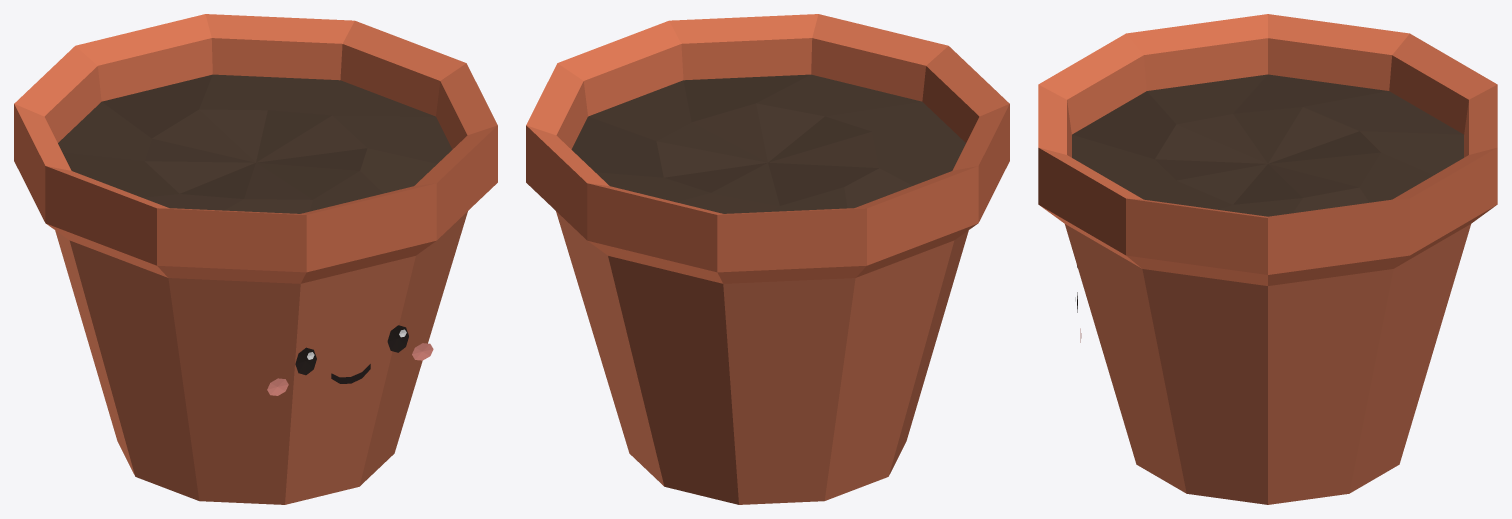
The model's file is pot_soil.glb.
3 renders of one model, left to right at view 1: azimuth 30°, elevation 25°; view 2: azimuth 150°, elevation 25°; view 3: azimuth 270°, elevation 25°, orthographic.
Parts seen in each view (by area): view 1: Empty_Pot_With_Soil; view 2: Empty_Pot_With_Soil; view 3: Empty_Pot_With_Soil.
Part boxes in pixels (left/top/right/bottom): Empty_Pot_With_Soil: left=14, top=14, right=497, bottom=504; Empty_Pot_With_Soil: left=526, top=14, right=1009, bottom=504; Empty_Pot_With_Soil: left=1038, top=14, right=1497, bottom=504.
Size of the model in its own units: 1.92 by 1.45 by 1.83.
